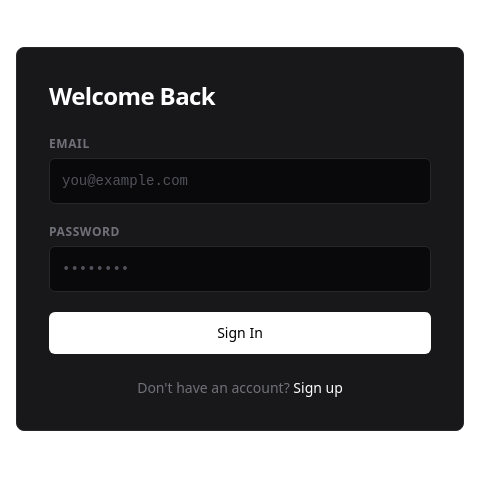
Test: LoginPage › should show error message on login failure
The width and height of the screenshot is (481, 479).
Type "test@example.com" into the field labelled "Email" at (240, 181), box [49,158,431,204]
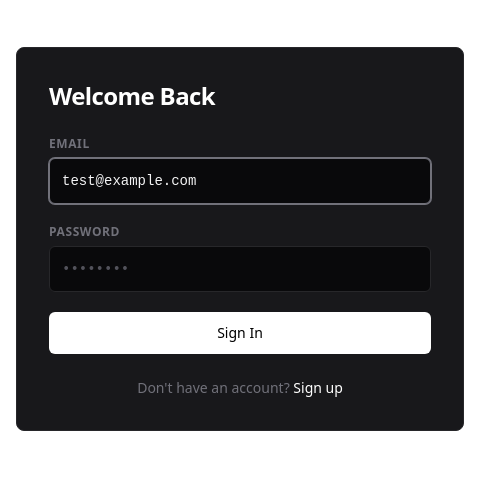
Type "wrong" into the password field labelled "Password" at (240, 269), box [49,246,431,292]
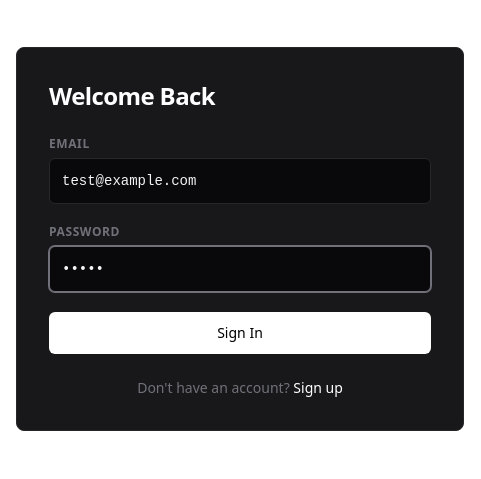
Click the button "Sign In" at (240, 333), box [49,312,431,354]
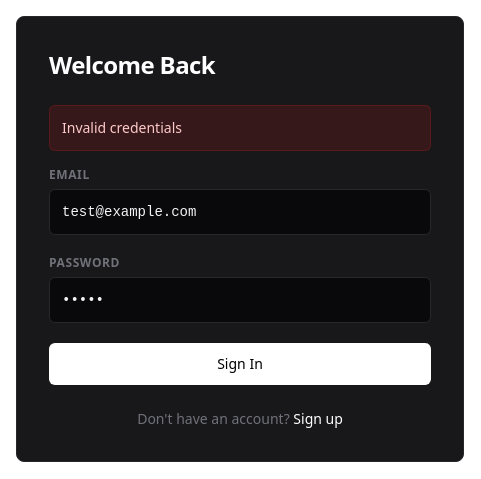
Now the text "Invalid credentials" is shown, box [49,105,431,151]
